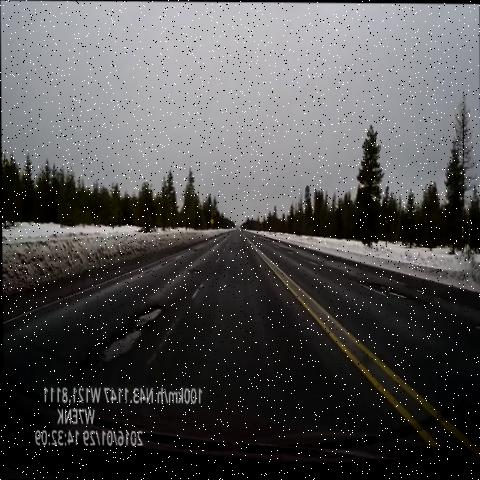pothole: (89, 291, 172, 376), (362, 267, 425, 317), (185, 260, 207, 280), (187, 241, 202, 257)
